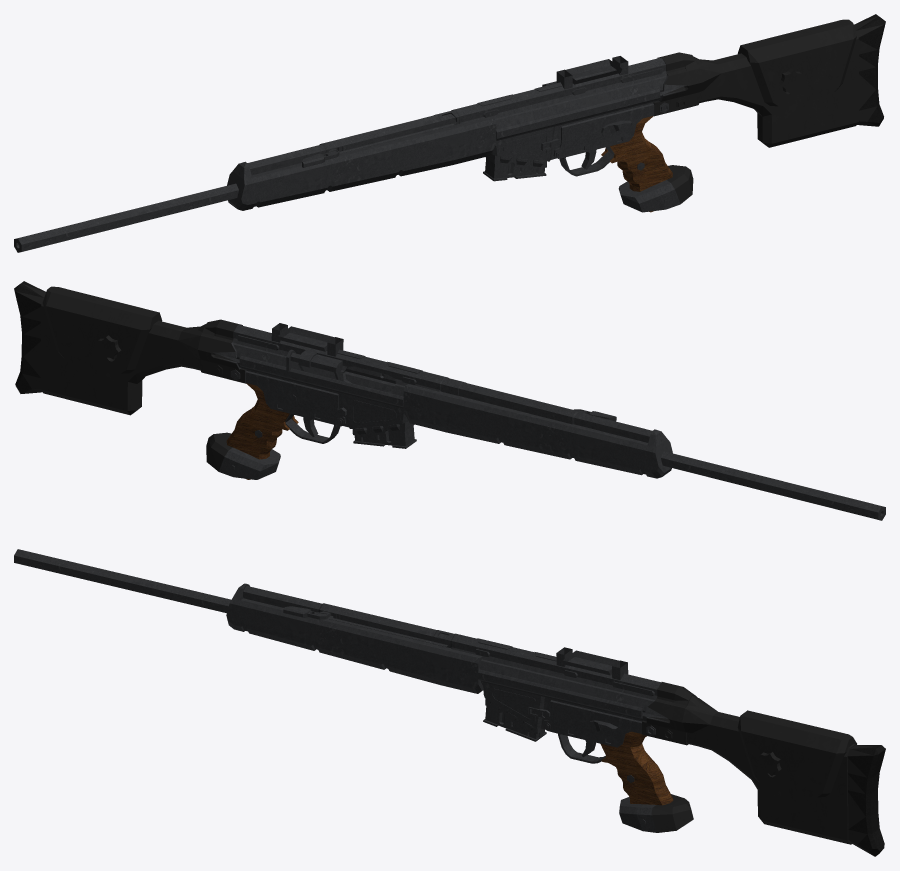
The model's file is psg1.glb.
3 views of the same model, one above another, from view 1: azimuth 30°, elevation 25°; view 2: azimuth 150°, elevation 25°; view 3: azimuth 330°, elevation 25° (orthographic).
Visible parts, largest first — view 1: psg1; view 2: psg1; view 3: psg1.
Part boxes in pixels (x1,y1,x2,y2): psg1: (14,14,885,252); psg1: (14,281,885,520); psg1: (14,549,885,856).
Size of the model in its own units: 1.21 by 0.2084 by 0.0599.
Materials: 4 (4 with a texture image).
